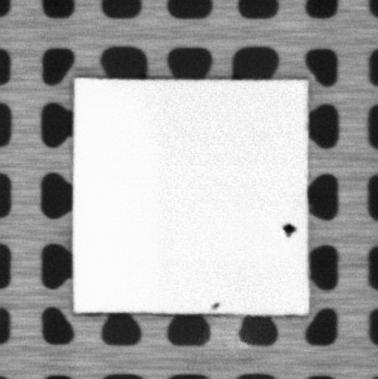DIE_INK: (280, 222, 297, 238), (210, 300, 219, 311)
